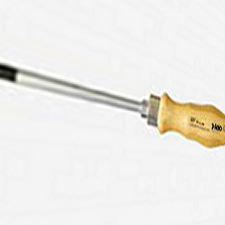Screwdriver: (1, 55, 225, 160)
